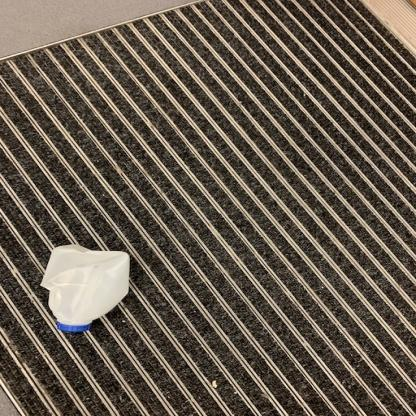trash: (41, 244, 129, 335)
